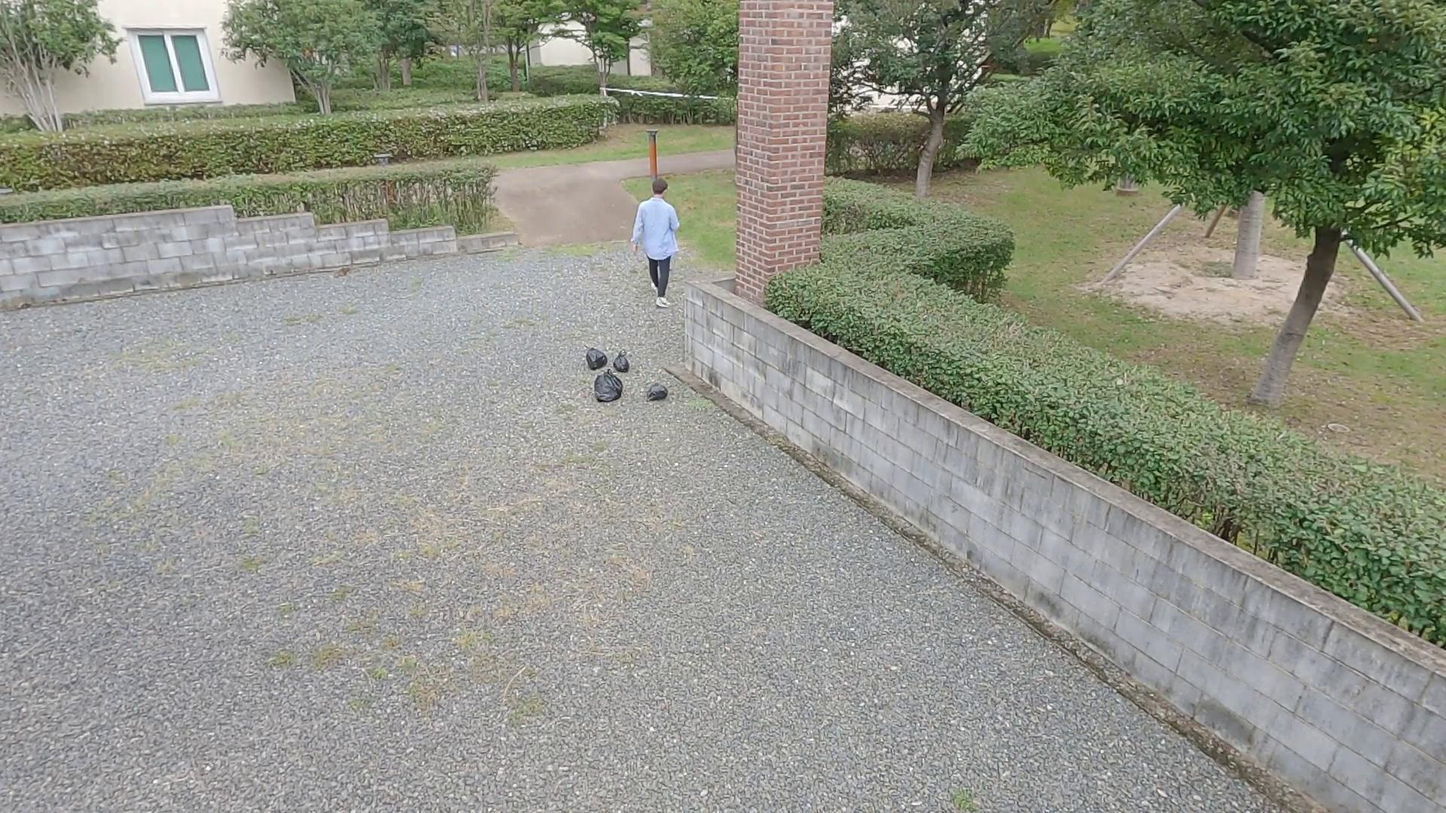trash: (587, 369, 627, 405), (580, 343, 609, 371), (644, 380, 671, 404), (611, 344, 631, 373)
